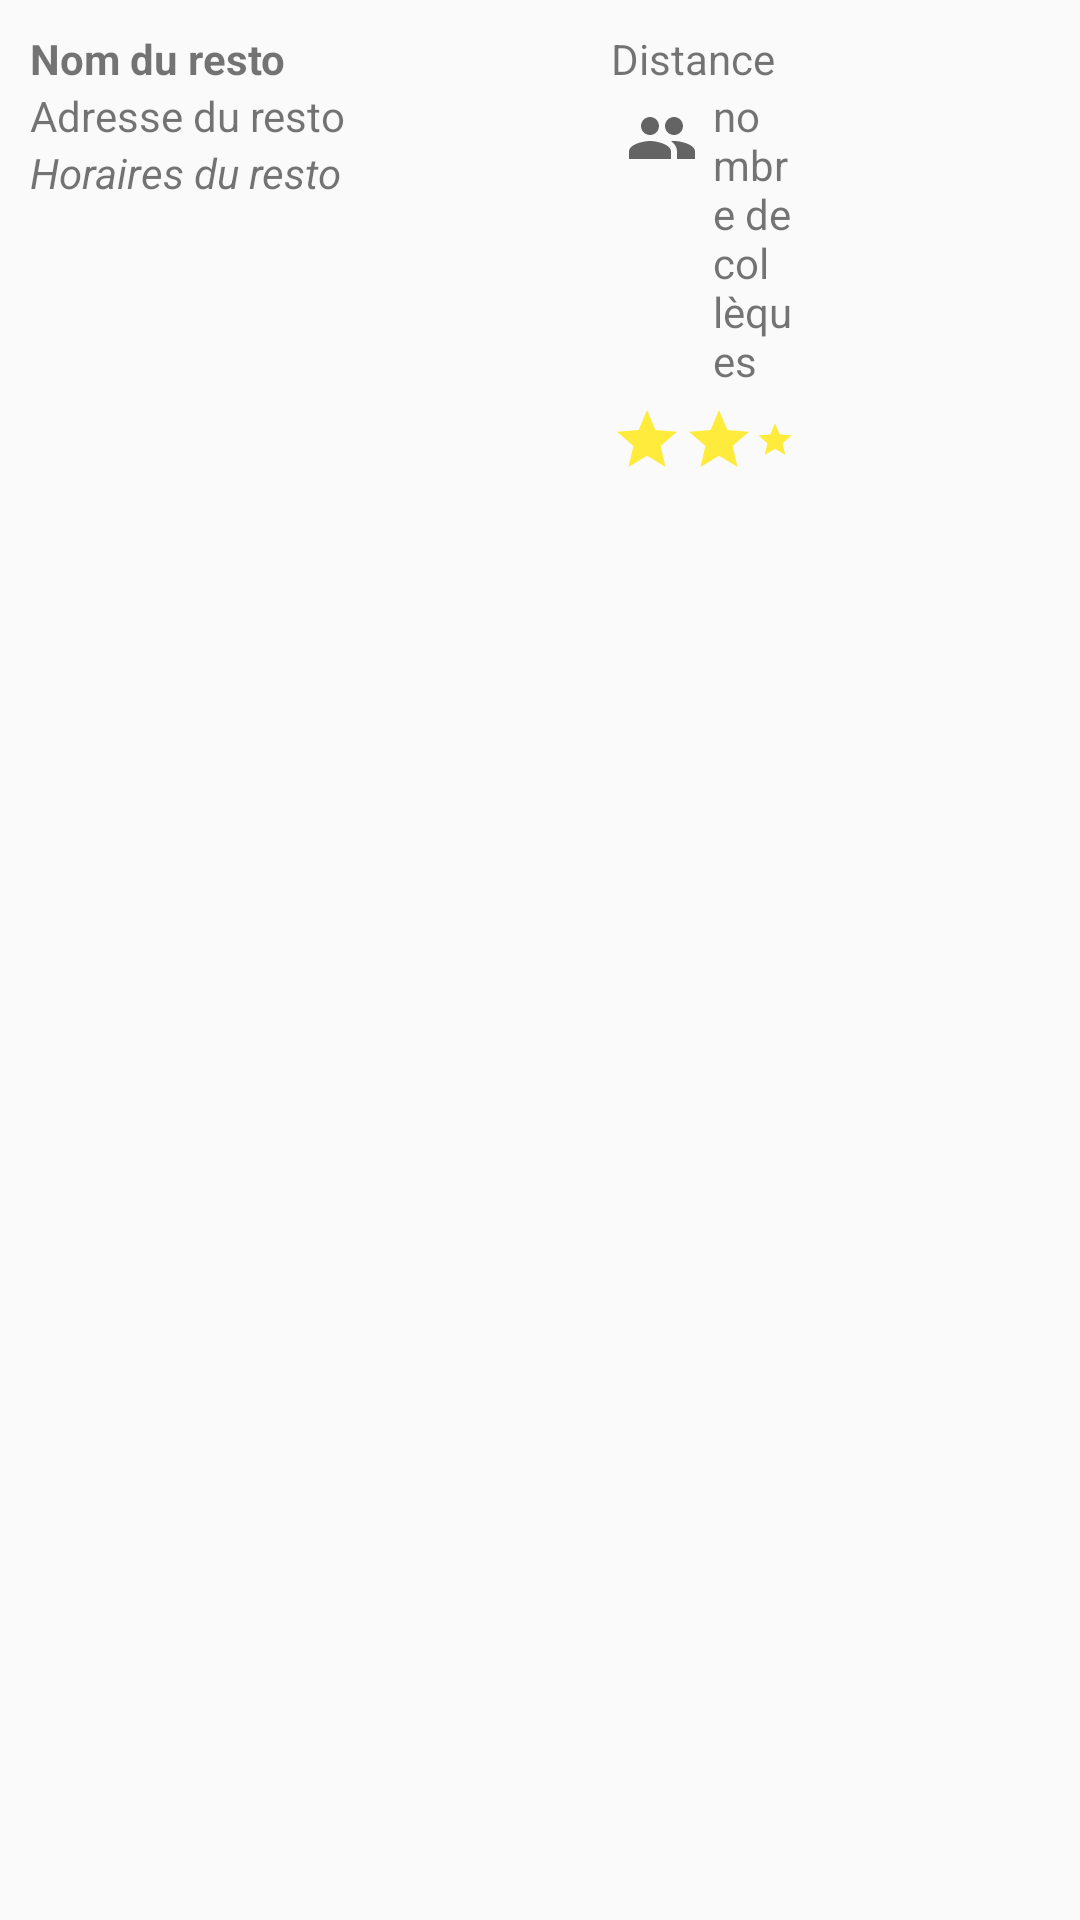

Icons on this 1080x1920 Android screen, each with its box as (x1, y1, x2, y2):
étoile: (617, 410, 677, 467), (689, 410, 749, 467), (758, 424, 792, 455)
